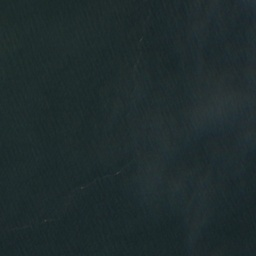Marine Debris: (0, 159, 135, 233)
